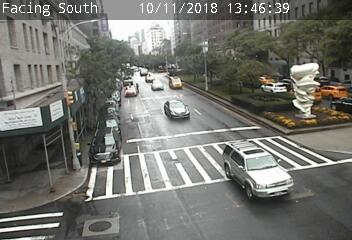car: (224, 141, 294, 200), (90, 128, 120, 164), (287, 86, 320, 102), (163, 100, 189, 119), (315, 85, 347, 99), (260, 82, 286, 94), (168, 76, 182, 89), (124, 85, 138, 97), (151, 79, 164, 91), (145, 73, 155, 83)
